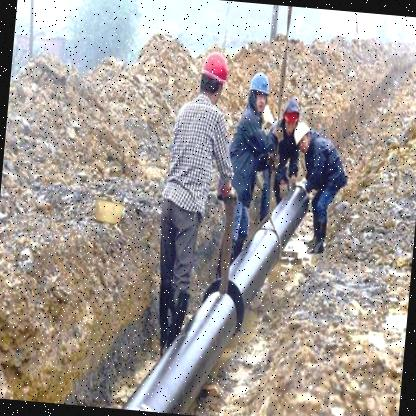capacete: (197, 49, 231, 102), (245, 66, 272, 116), (291, 119, 315, 156), (280, 110, 298, 142)
sem_colete_refletivo: (162, 87, 230, 218), (223, 102, 272, 204), (302, 132, 354, 198), (265, 121, 303, 195)
